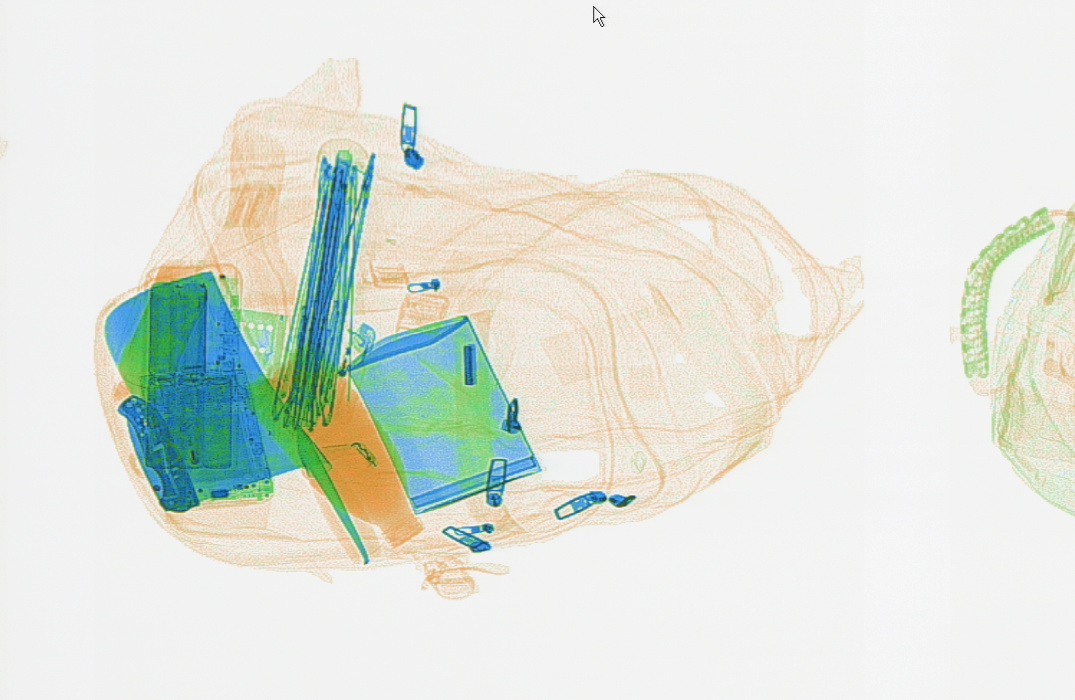knife: (102, 268, 382, 566), (115, 394, 202, 513)
lighter: (329, 323, 375, 422)
powerbank: (142, 262, 251, 479)
